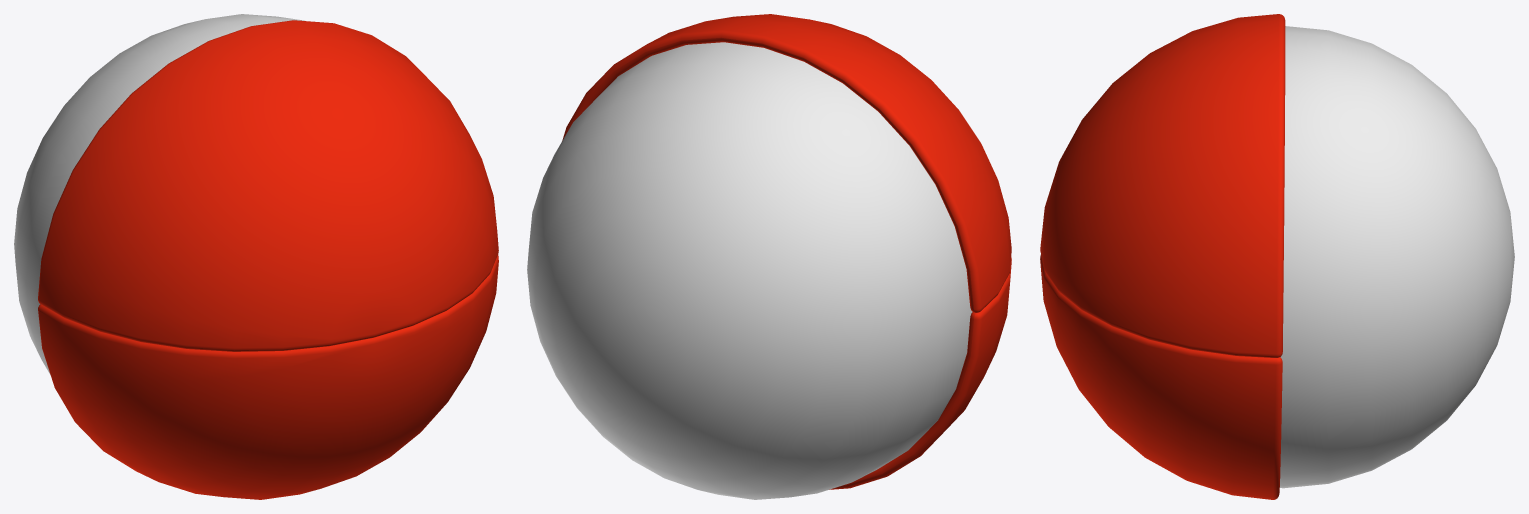
Rendered from eye.glb.
The picture shows the model from 3 angles, left to right: view 1: azimuth 30°, elevation 25°; view 2: azimuth 150°, elevation 25°; view 3: azimuth 270°, elevation 25°; orthographic projection. The views are drawn at different scales.
Parts seen in each view (by area): view 1: Sphere.003, Sphere.002, Sphere; view 2: Sphere, Sphere.003, Sphere.002; view 3: Sphere, Sphere.003, Sphere.002.
Boxes of the visible parts, x1,y1,x2,y2 form: Sphere.003: (38,20,498,351); Sphere.002: (38,254,498,499); Sphere: (14,14,304,374); Sphere: (527,42,972,499); Sphere.003: (562,14,1011,312); Sphere.002: (829,257,1011,489); Sphere: (1279,26,1514,488); Sphere.003: (1040,14,1285,357); Sphere.002: (1040,255,1282,499).
Size of the model in its own units: 2.1 by 2.1 by 2.05.
